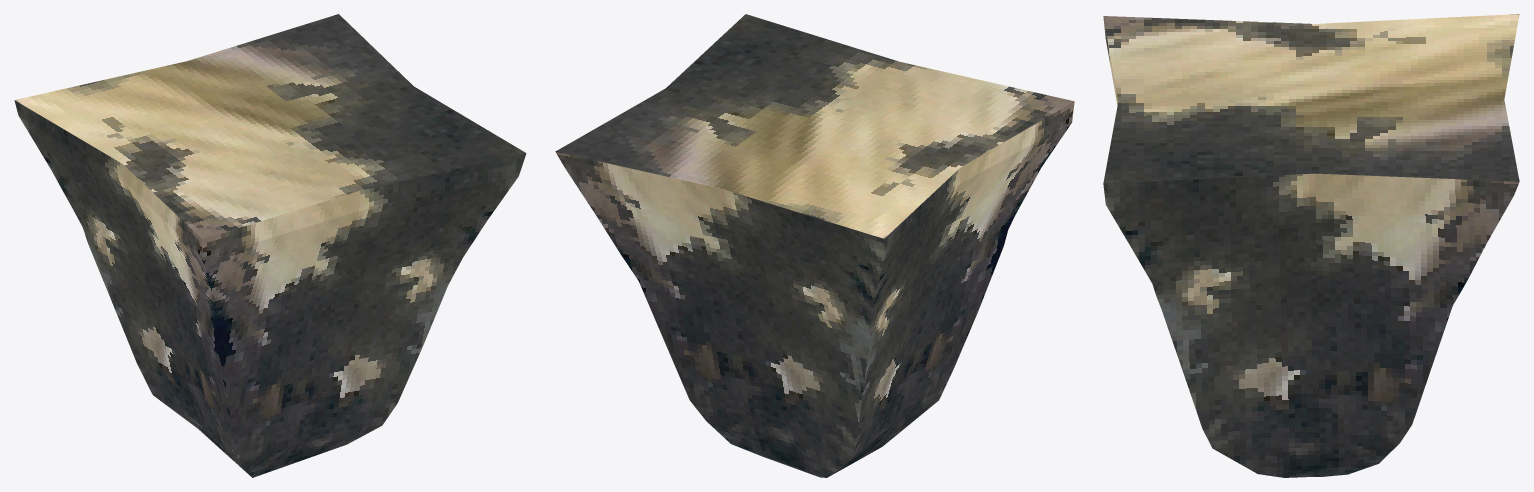
3 views of the same model, side by side, from view 1: azimuth 30°, elevation 25°; view 2: azimuth 150°, elevation 25°; view 3: azimuth 270°, elevation 25° (orthographic). The views are drawn at different scales.
Visible parts, largest first — view 1: SPLICE_2; view 2: SPLICE_2; view 3: SPLICE_2.
Boxes of the visible parts, x1,y1,x2,y2 form: SPLICE_2: (14, 14, 526, 477); SPLICE_2: (555, 14, 1074, 477); SPLICE_2: (1103, 14, 1519, 477).
Bounding box in the file's own units: 1.09 × 1.1 × 1.1.
1 material, 1 textured.
